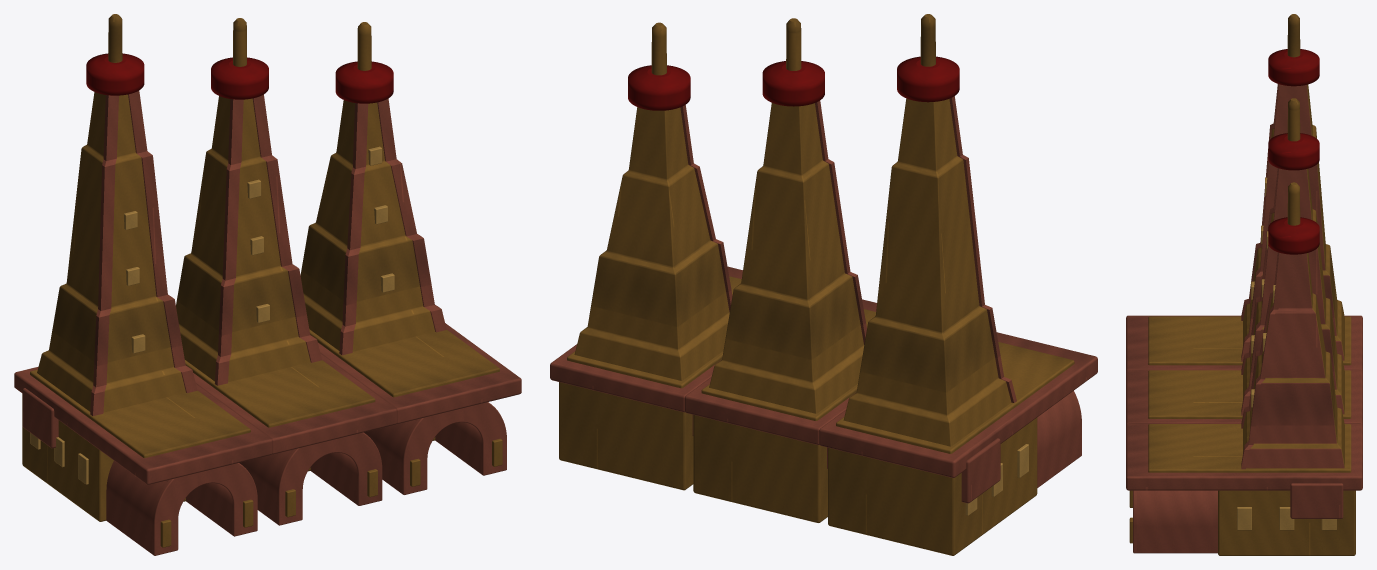
The picture shows the model from 3 angles, left to right: view 1: azimuth 30°, elevation 25°; view 2: azimuth 150°, elevation 25°; view 3: azimuth 270°, elevation 25°; orthographic projection. The views are drawn at different scales.
Parts seen in each view (by area): view 1: BR06 segment 0 terraced gold tower, BR06 segment 1 terraced gold tower, BR06 segment 2 terraced gold tower, BR06 segment 0 entrance open rose arch, BR06 segment 1 entrance open rose arch, BR06 segment 2 entrance open rose arch, BR06 segment 0 hall broad rose terrace, BR06 segment 0 hall gold roof inset, BR06 segment 1 hall gold roof inset, BR06 segment 2 hall gold roof inset, BR06 segment 1 hall broad rose terrace, BR06 segment 2 hall broad rose terrace (+14 smaller); view 2: BR06 segment 0 terraced gold tower, BR06 segment 1 terraced gold tower, BR06 segment 2 terraced gold tower, BR06 segment 0 hall rear chamber, BR06 segment 1 hall rear chamber, BR06 segment 2 hall rear chamber, BR06 segment 0 hall broad rose terrace, BR06 segment 0 hall gold roof inset, BR06 segment 1 hall broad rose terrace, BR06 segment 2 hall broad rose terrace, BR06 segment 0 entrance open rose arch, BR06 segment 2 red upper collar (+11 smaller); view 3: BR06 segment 2 terraced gold tower, BR06 segment 2 hall rear chamber, BR06 segment 2 hall broad rose terrace, BR06 segment 2 hall gold roof inset, BR06 segment 2 entrance open rose arch, BR06 segment 0 hall gold roof inset, BR06 segment 1 hall gold roof inset, BR06 segment 1 terraced gold tower, BR06 segment 0 terraced gold tower, BR06 segment 0 hall broad rose terrace, BR06 segment 1 hall broad rose terrace, BR06 rear hall connecting lintel (+14 smaller).
Part boxes in pixels (box(x1,y1,x2,y2)): BR06 segment 0 terraced gold tower: box(37, 92, 185, 412); BR06 segment 1 terraced gold tower: box(176, 96, 310, 382); BR06 segment 2 terraced gold tower: box(300, 100, 434, 351); BR06 segment 0 entrance open rose arch: box(106, 461, 257, 555); BR06 segment 1 entrance open rose arch: box(239, 432, 382, 525); BR06 segment 2 entrance open rose arch: box(364, 402, 506, 494); BR06 segment 0 hall broad rose terrace: box(14, 366, 272, 484); BR06 segment 0 hall gold roof inset: box(30, 369, 250, 457); BR06 segment 1 hall gold roof inset: box(185, 360, 375, 427); BR06 segment 2 hall gold roof inset: box(309, 329, 499, 397); BR06 segment 1 hall broad rose terrace: box(193, 354, 396, 454); BR06 segment 2 hall broad rose terrace: box(318, 323, 521, 423); BR06 segment 0 terraced gold tower: box(843, 98, 1011, 446); BR06 segment 1 terraced gold tower: box(709, 103, 864, 413); BR06 segment 2 terraced gold tower: box(574, 107, 729, 380); BR06 segment 0 hall rear chamber: box(828, 417, 1037, 555); BR06 segment 1 hall rear chamber: box(693, 415, 827, 522); BR06 segment 2 hall rear chamber: box(559, 382, 693, 490); BR06 segment 0 hall broad rose terrace: box(819, 332, 1097, 477); BR06 segment 0 hall gold roof inset: box(836, 342, 1074, 453); BR06 segment 1 hall broad rose terrace: box(684, 299, 876, 445); BR06 segment 2 hall broad rose terrace: box(550, 266, 742, 412); BR06 segment 0 entrance open rose arch: box(1037, 391, 1081, 487); BR06 segment 2 red upper collar: box(628, 65, 690, 110); BR06 segment 2 terraced gold tower: box(1243, 253, 1344, 468); BR06 segment 2 hall rear chamber: box(1218, 490, 1355, 555); BR06 segment 2 hall broad rose terrace: box(1126, 423, 1362, 490); BR06 segment 2 hall gold roof inset: box(1148, 424, 1351, 472); BR06 segment 2 entrance open rose arch: box(1133, 490, 1217, 553); BR06 segment 0 hall gold roof inset: box(1148, 316, 1351, 365); BR06 segment 1 hall gold roof inset: box(1148, 370, 1351, 418); BR06 segment 1 terraced gold tower: box(1243, 168, 1344, 414); BR06 segment 0 terraced gold tower: box(1243, 84, 1344, 360); BR06 segment 0 hall broad rose terrace: box(1126, 315, 1362, 370); BR06 segment 1 hall broad rose terrace: box(1126, 369, 1362, 424); BR06 rear hall connecting lintel: box(1290, 483, 1343, 518).
Bounding box in the file's own units: 2.2 × 2.55 × 1.34.
Materials: 4 (4 with a texture image).
